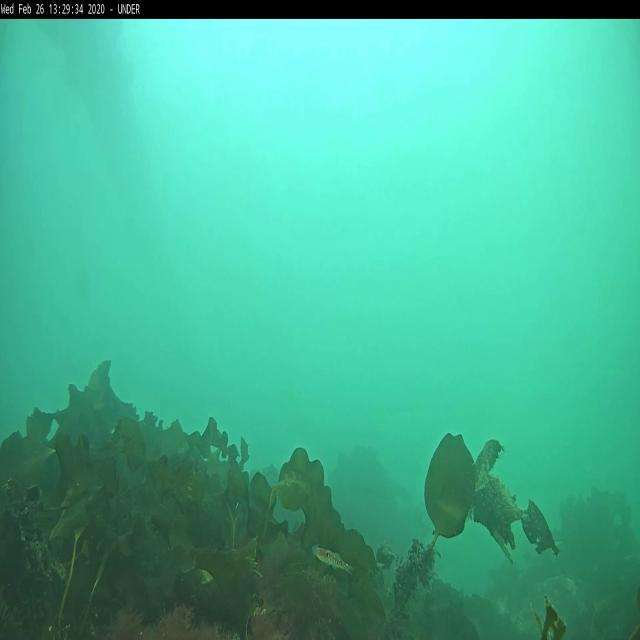fish: (314, 544, 354, 578)
